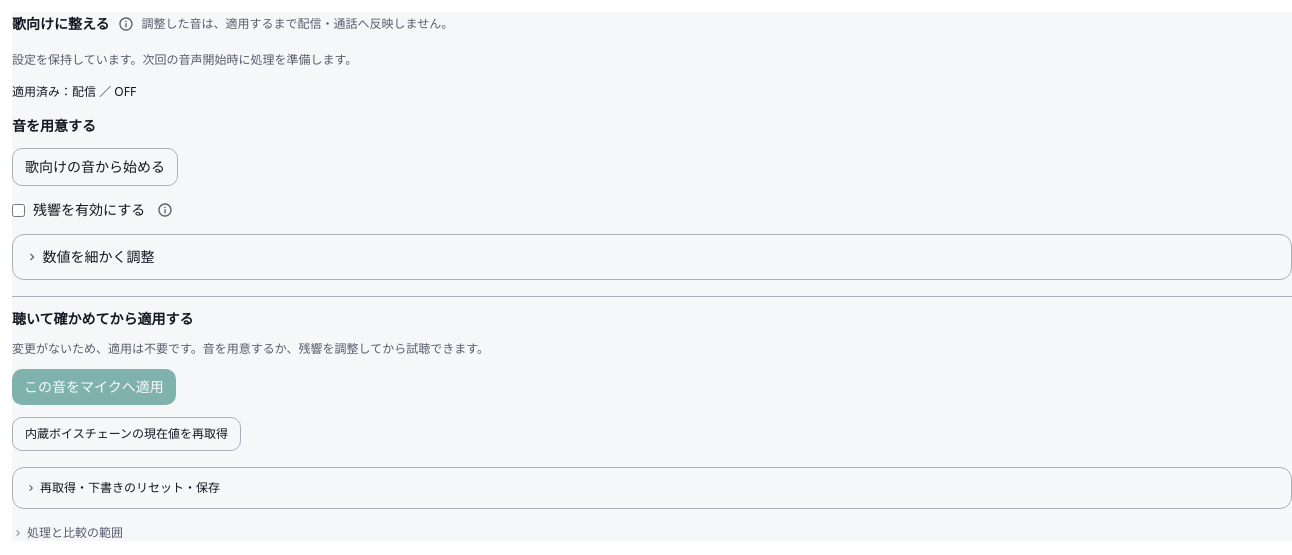
running=trueでもstreamFailed=trueなら稼働中と表示せず、手動再取得は内蔵値が同じでも音声状態を更新する
Expected: the text "設定を保持しています。次回の音声開始時に処理を準備します。" is shown, [12,51,357,68]
Click the button "内蔵ボイスチェーンの現在値を再取得" at coordinates (126, 434), box [12,417,241,451]
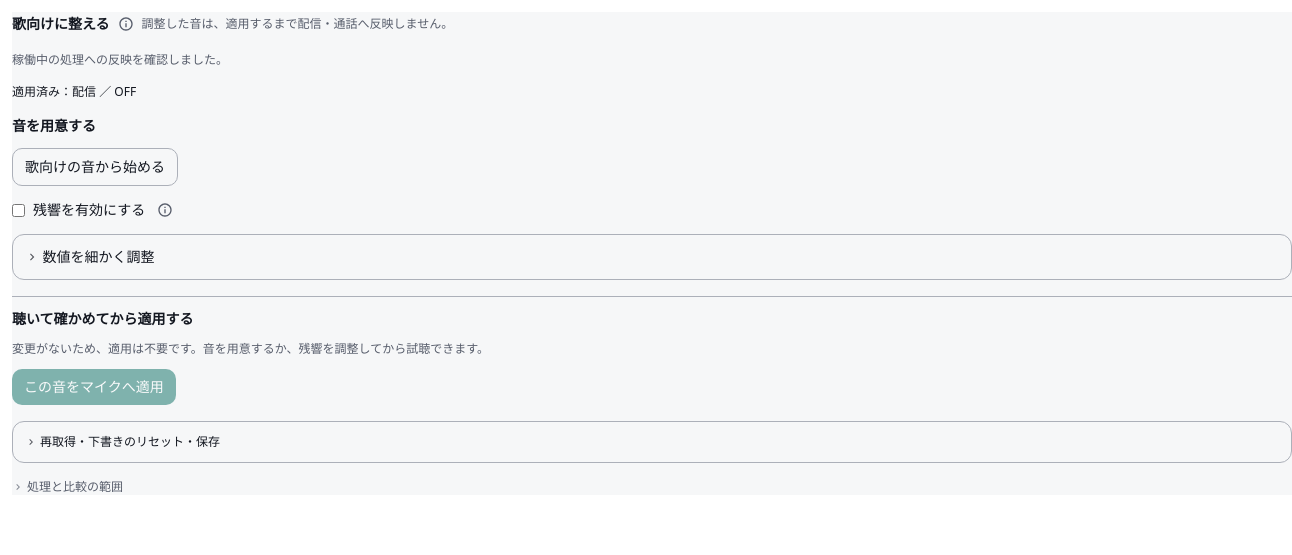
Expected: the text "稼働中の処理への反映を確認しました。" is shown, [12,51,228,68]
